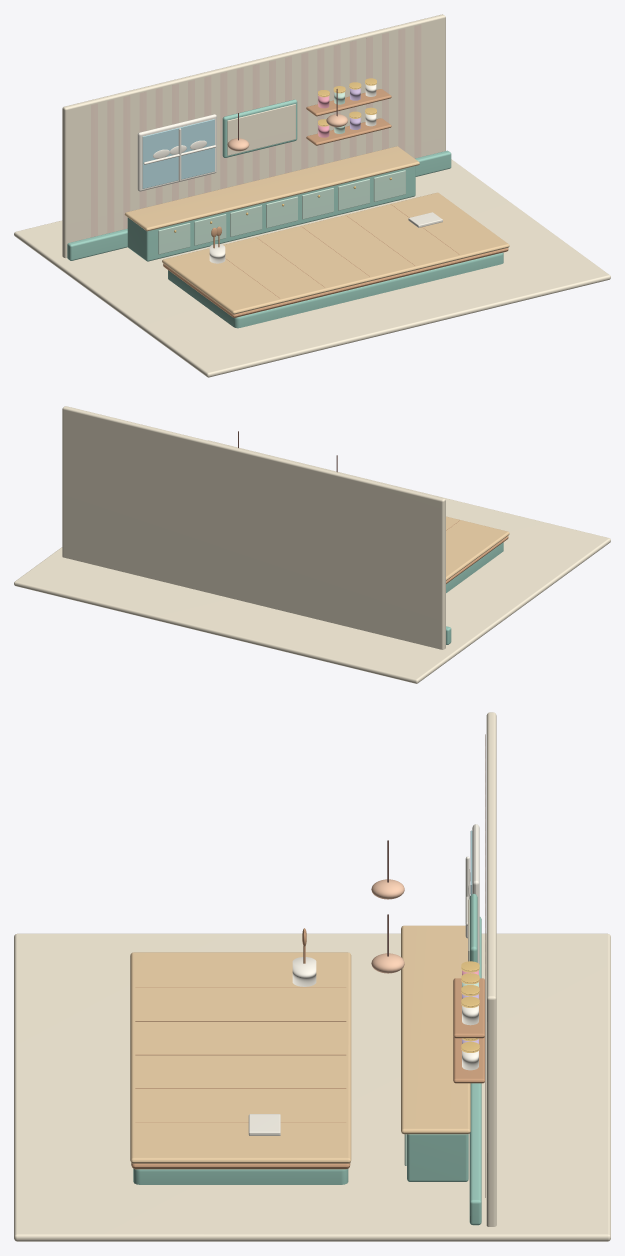
Rendered from shop.glb.
The picture shows the model from 3 angles, top to bottom: view 1: azimuth 30°, elevation 25°; view 2: azimuth 150°, elevation 25°; view 3: azimuth 270°, elevation 25°; orthographic projection. The views are drawn at different scales.
Parts seen in each view (by area): view 1: Shop cream, Shop board, Shop wall, Shop mint, Shop mintlight, Shop wood, Shop glass, Shop white, Shop gold; view 2: Shop cream, Shop board, Shop mint; view 3: Shop cream, Shop board, Shop mint, Shop wood, Shop white, Shop peach, Shop gold.
Boxes of the visible parts, x1,y1,x2,y2 form: Shop cream: [14, 14, 610, 377]; Shop board: [124, 146, 509, 314]; Shop wall: [91, 24, 421, 237]; Shop mint: [67, 99, 503, 328]; Shop mintlight: [158, 92, 405, 254]; Shop wood: [163, 89, 508, 317]; Shop glass: [142, 119, 214, 188]; Shop white: [137, 84, 442, 263]; Shop gold: [174, 78, 391, 232]; Shop cream: [14, 406, 610, 683]; Shop board: [446, 516, 509, 580]; Shop mint: [446, 542, 503, 644]; Shop cream: [14, 712, 610, 1241]; Shop board: [130, 925, 470, 1163]; Shop mint: [133, 893, 481, 1225]; Shop wood: [131, 928, 484, 1169]; Shop white: [248, 824, 479, 1135]; Shop peach: [371, 879, 404, 973]; Shop gold: [461, 961, 479, 1052].
Bounding box in the file's own units: 18 × 6.63 × 15.
